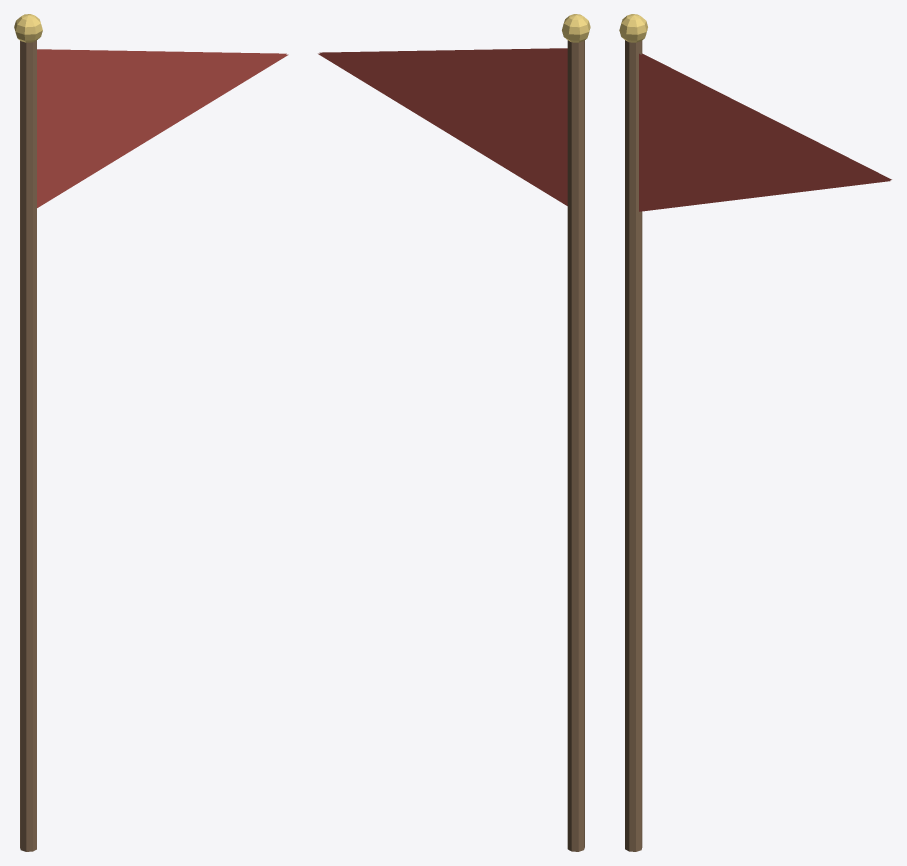
File: flagpole.glb
The picture shows the model from 3 angles, left to right: view 1: azimuth 30°, elevation 25°; view 2: azimuth 150°, elevation 25°; view 3: azimuth 330°, elevation 25°; orthographic projection.
Parts seen in each view (by area): view 1: flagpole; view 2: flagpole; view 3: flagpole.
Boxes of the visible parts, x1=… form: flagpole: x1=14, y1=14, x2=288, y2=851; flagpole: x1=318, y1=14, x2=590, y2=851; flagpole: x1=619, y1=14, x2=891, y2=851.
Bounding box in the file's own units: 2.1 × 6.15 × 0.1997.
